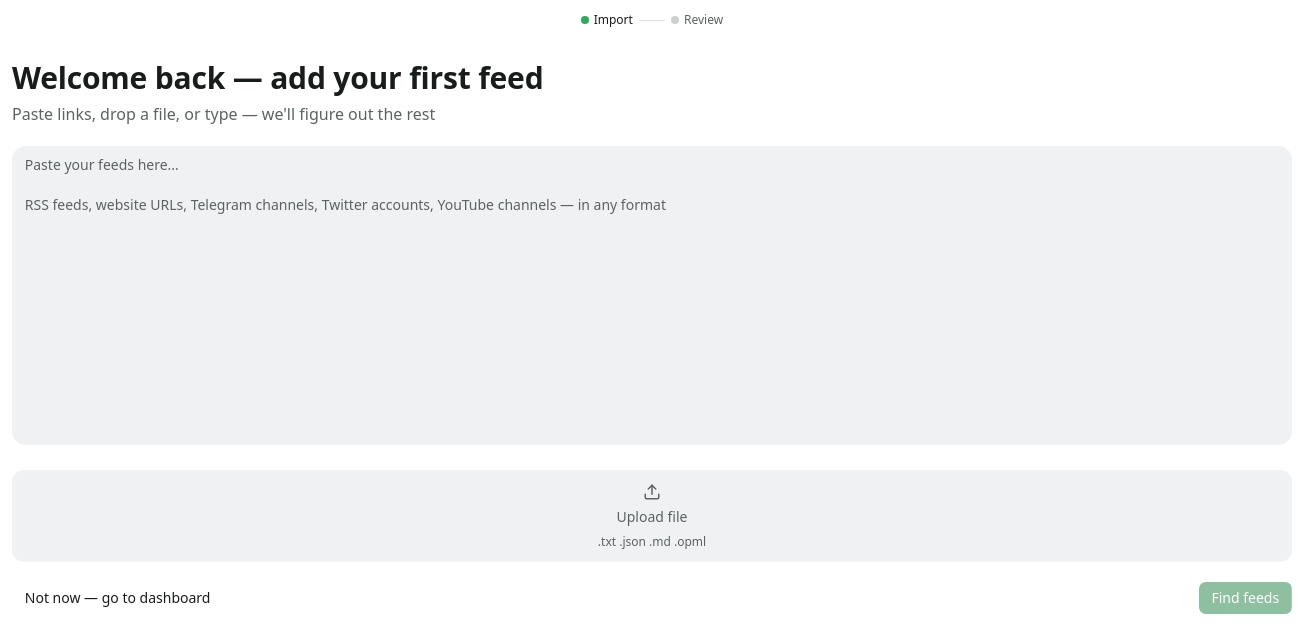
Test: /onboarding/feeds — skip destination comes from settings › AC-3: skip clicked before settings resolve waits for them (onboardingCompleted=true → /posts)
Click the button "Not now — go to dashboard". click: click(118, 598)
box: 12,582 -> 223,614
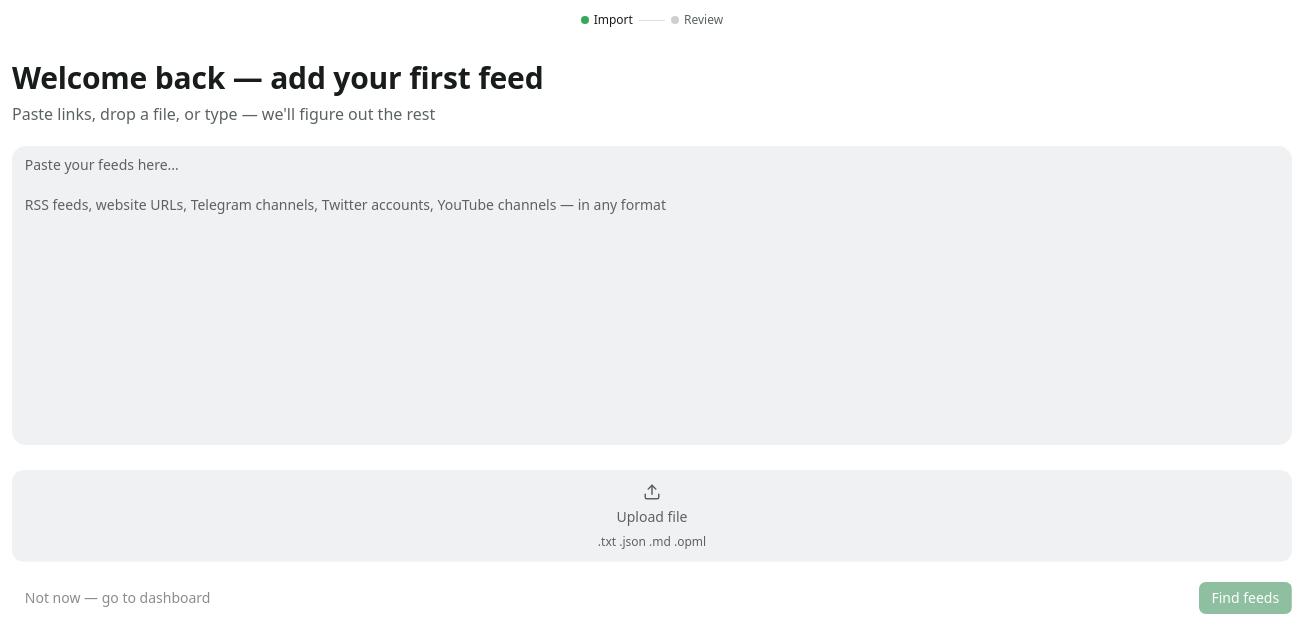
expect the button "Not now — go to dashboard" is disabled: met, box 12,582 -> 223,614
